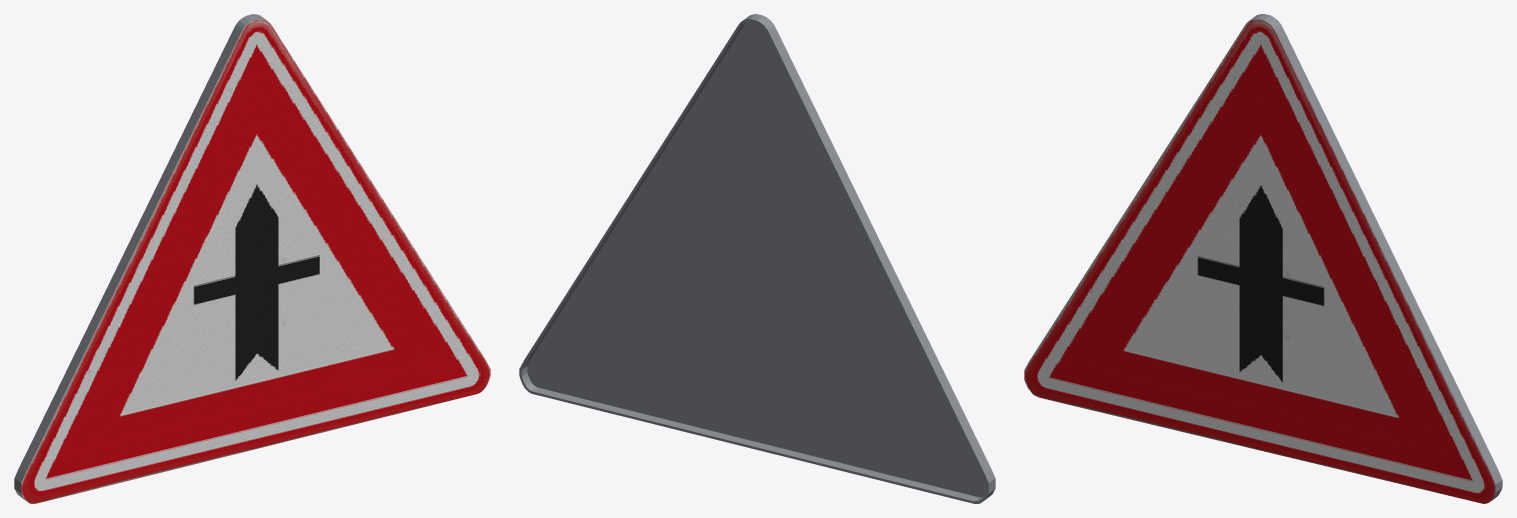
3 renders of one model, left to right at view 1: azimuth 30°, elevation 25°; view 2: azimuth 150°, elevation 25°; view 3: azimuth 330°, elevation 25°, orthographic.
Visible parts, largest first — view 1: cat_8a29af57654287f1; view 2: cat_8a29af57654287f1; view 3: cat_8a29af57654287f1.
Part boxes in pixels (x1,y1,x2,y2): cat_8a29af57654287f1: (14,14,490,503); cat_8a29af57654287f1: (519,14,995,503); cat_8a29af57654287f1: (1024,14,1502,503).
Bounding box in the file's own units: 0.6 × 0.015 × 0.5256.
2 materials, 1 textured.
